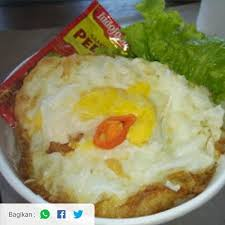Telur ceplok: (13, 55, 225, 205)
